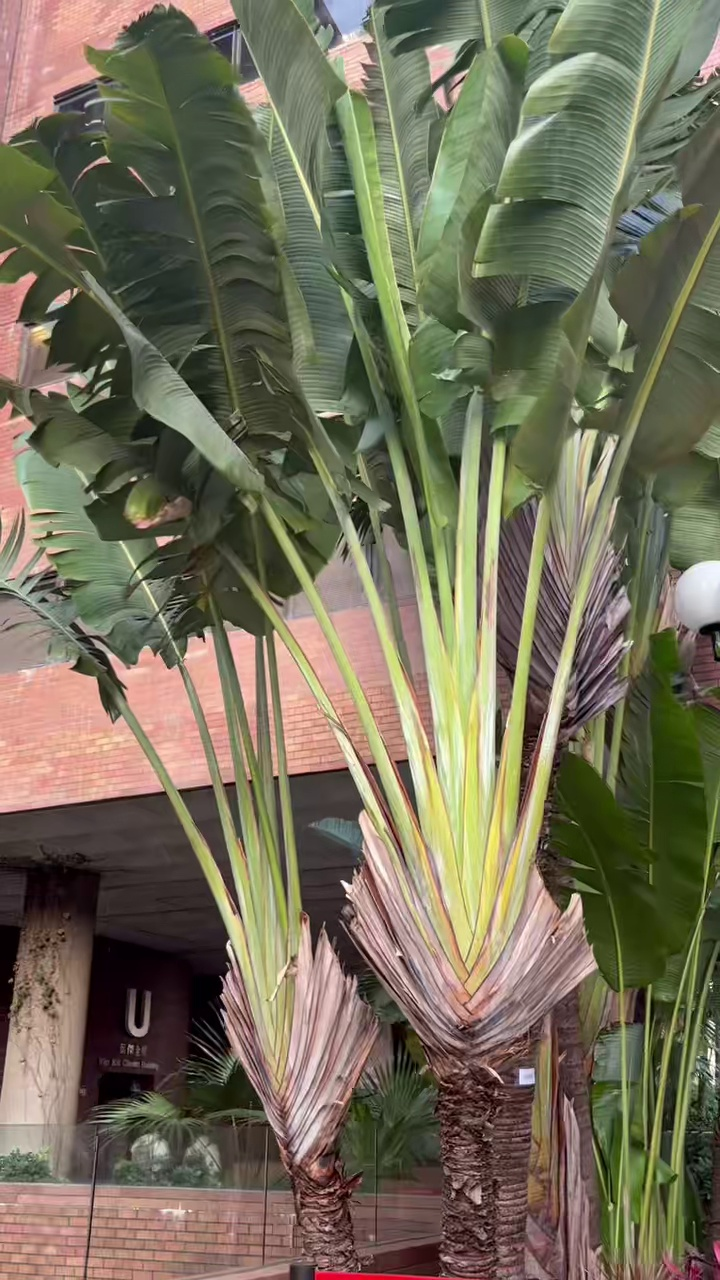Travellers-tree: (0, 0, 719, 1270)
